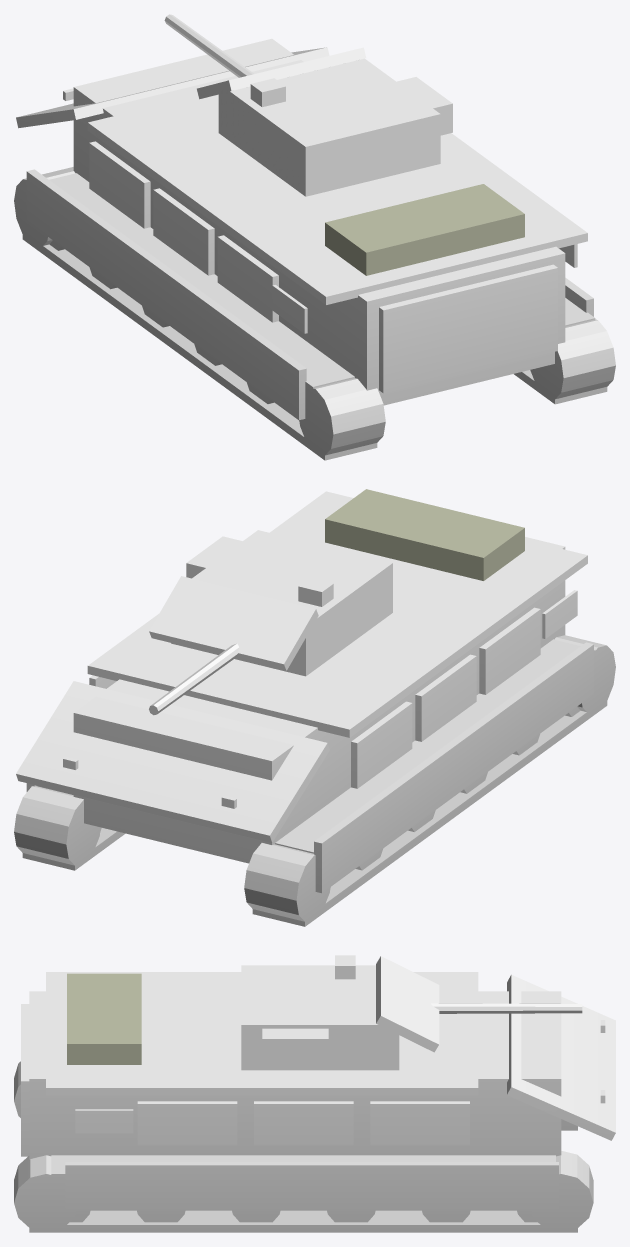
Rendered from ifv_blue.glb.
The picture shows the model from 3 angles, top to bottom: view 1: azimuth 30°, elevation 25°; view 2: azimuth 150°, elevation 25°; view 3: azimuth 270°, elevation 25°; orthographic projection. The views are drawn at different scales.
Visible parts, largest first — view 1: body, turret, barrel; view 2: body, turret, barrel; view 3: body, turret, barrel.
Boxes of the visible parts, bbox=[...] form: body: bbox=[14, 38, 615, 460]; turret: bbox=[197, 47, 452, 196]; barrel: bbox=[164, 14, 253, 77]; body: bbox=[14, 489, 615, 926]; turret: bbox=[149, 530, 392, 676]; barrel: bbox=[149, 643, 239, 715]; body: bbox=[14, 972, 615, 1232]; turret: bbox=[241, 955, 439, 1070]; barrel: bbox=[431, 1003, 582, 1013].
Bounding box in the file's own units: 3.72 × 2.64 × 7.24.
